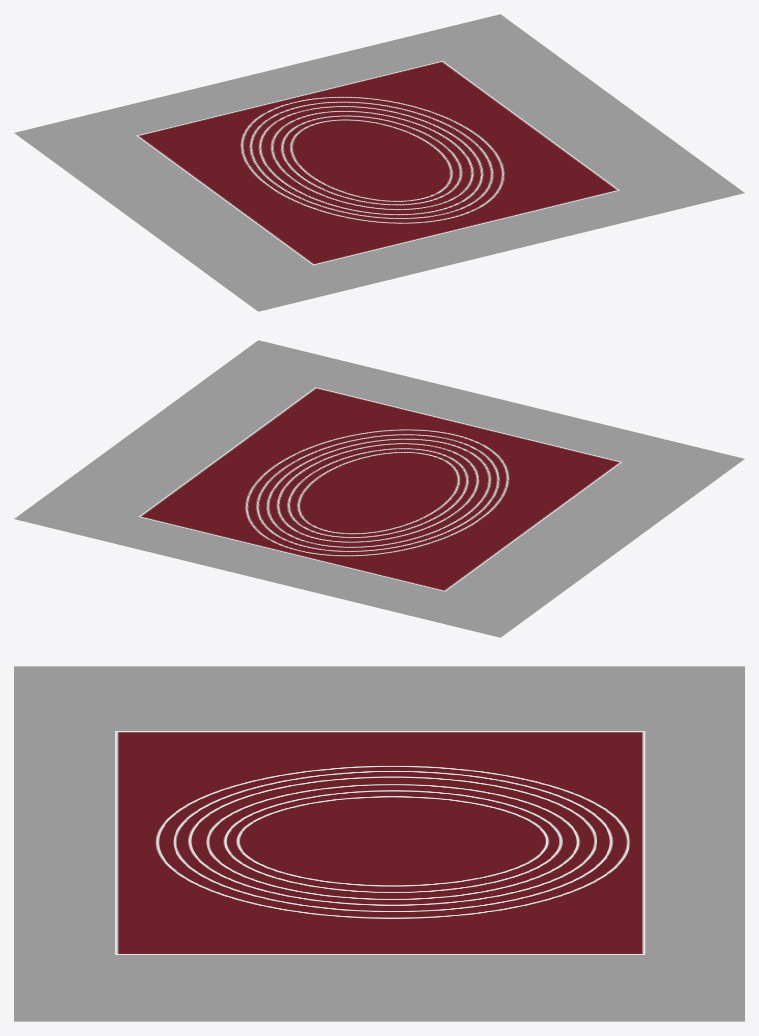
File: new ground2.fbx
The picture shows the model from 3 angles, top to bottom: view 1: azimuth 30°, elevation 25°; view 2: azimuth 150°, elevation 25°; view 3: azimuth 270°, elevation 25°; orthographic projection. The views are drawn at different scales.
Parts seen in each view (by area): view 1: polySurface1; view 2: polySurface1; view 3: polySurface1.
Part boxes in pixels (left/top/right/bottom): polySurface1: left=14, top=14, right=744, bottom=311; polySurface1: left=14, top=340, right=744, bottom=637; polySurface1: left=14, top=666, right=744, bottom=1021.
Bounding box in the file's own units: 0.5606 × 0 × 0.4878.
Materials: 2 (1 with a texture image).
